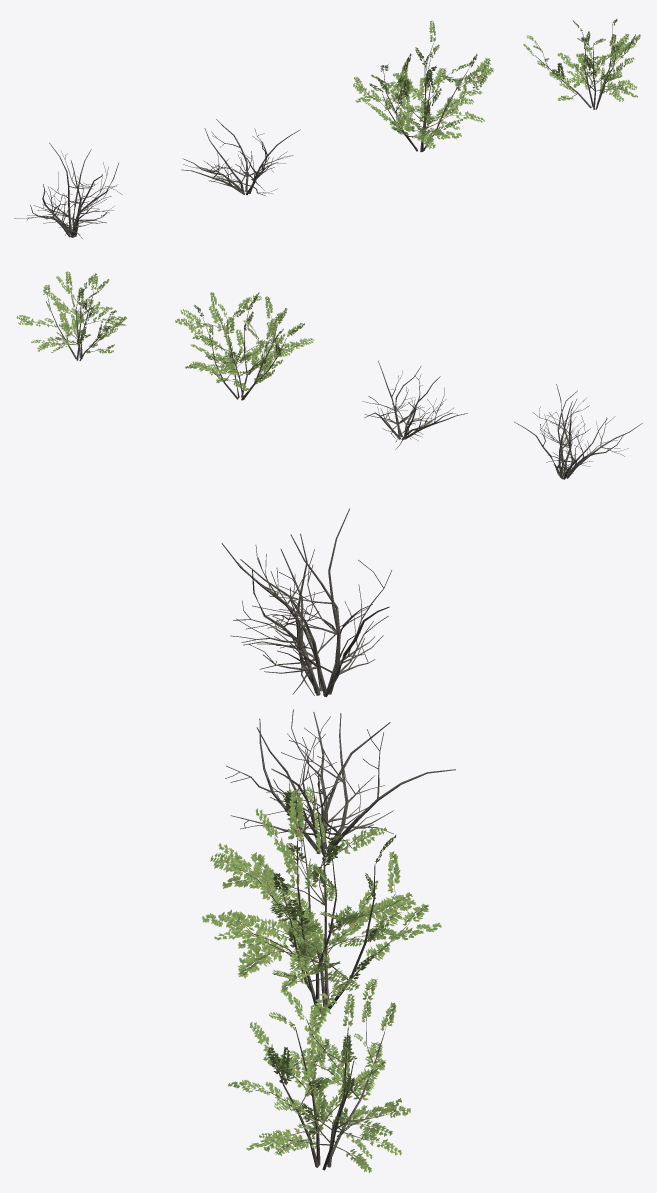
Rendered from veg_shrubs_game.glb.
3 renders of one model, top to bottom at view 1: azimuth 30°, elevation 25°; view 2: azimuth 150°, elevation 25°; view 3: azimuth 270°, elevation 25°, orthographic. The views are drawn at different scales.
Visible parts, largest first — view 1: shrub_leafy_a, shrub_leafy_b, shrub_bare_a, shrub_bare_b; view 2: shrub_leafy_a, shrub_leafy_b, shrub_bare_a, shrub_bare_b; view 3: shrub_leafy_a, shrub_leafy_b, shrub_bare_a, shrub_bare_b.
Boxes of the visible parts, box(x1,y1,x2,y2) form: shrub_leafy_a: box(353, 20, 493, 152); shrub_leafy_b: box(523, 19, 640, 109); shrub_bare_a: box(14, 142, 122, 238); shrub_bare_b: box(181, 119, 300, 195); shrub_leafy_a: box(175, 292, 314, 400); shrub_leafy_b: box(16, 271, 127, 360); shrub_bare_a: box(514, 384, 642, 479); shrub_bare_b: box(362, 360, 467, 449); shrub_leafy_a: box(202, 785, 441, 1033); shrub_leafy_b: box(228, 978, 410, 1172); shrub_bare_a: box(221, 508, 391, 696); shrub_bare_b: box(225, 709, 455, 854).
Bounding box in the file's own units: 9.18 × 1.59 × 1.71.
Materials: 3 (3 with a texture image).
